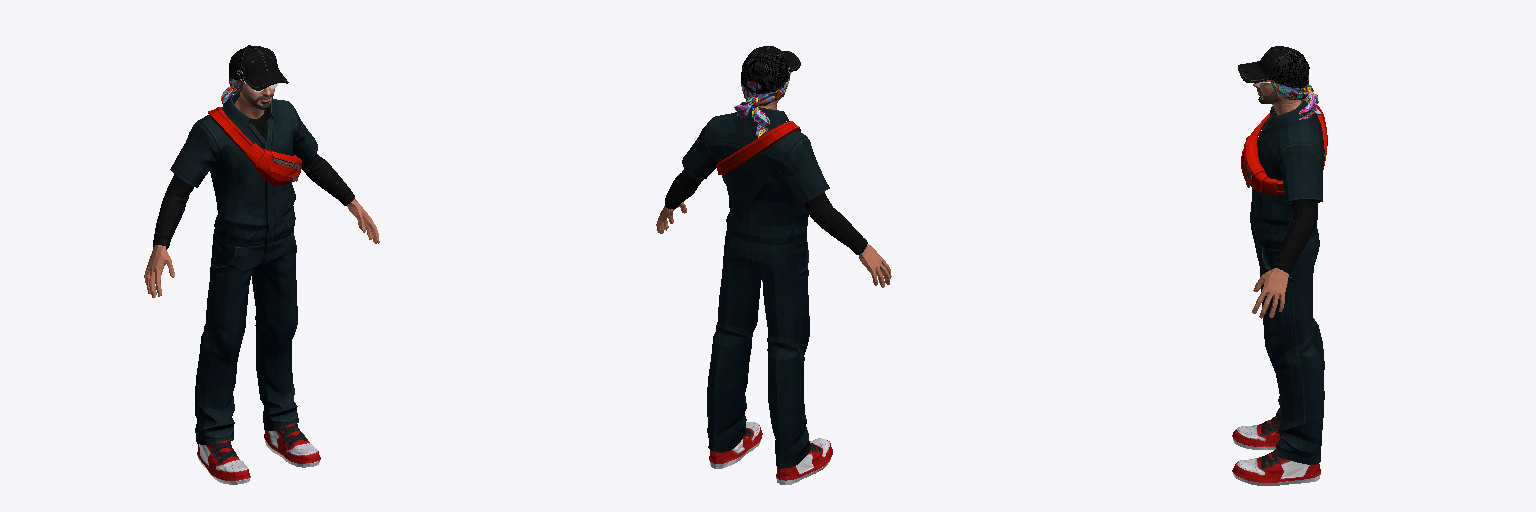
3 renders of one model, left to right at view 1: azimuth 30°, elevation 25°; view 2: azimuth 150°, elevation 25°; view 3: azimuth 270°, elevation 25°, orthographic.
Visible parts, largest first — view 1: Wolf3D_Outfit_Top, Wolf3D_Outfit_Bottom, Wolf3D_Outfit_Footwear, Wolf3D_Headwear, Wolf3D_Body, Wolf3D_Head; view 2: Wolf3D_Outfit_Bottom, Wolf3D_Outfit_Top, Wolf3D_Headwear, Wolf3D_Outfit_Footwear, Wolf3D_Body; view 3: Wolf3D_Outfit_Top, Wolf3D_Outfit_Bottom, Wolf3D_Outfit_Footwear, Wolf3D_Headwear, Wolf3D_Body, Wolf3D_Head.
Boxes of the visible parts, box(x1,y1,x2,y2) form: Wolf3D_Outfit_Top: box(153, 92, 354, 249); Wolf3D_Outfit_Bottom: box(195, 229, 298, 444); Wolf3D_Outfit_Footwear: box(197, 423, 320, 484); Wolf3D_Headwear: box(221, 45, 288, 105); Wolf3D_Body: box(144, 199, 379, 297); Wolf3D_Head: box(235, 83, 274, 118); Wolf3D_Outfit_Bottom: box(707, 230, 810, 468); Wolf3D_Outfit_Top: box(665, 102, 867, 254); Wolf3D_Headwear: box(734, 46, 800, 137); Wolf3D_Outfit_Footwear: box(709, 422, 832, 484); Wolf3D_Body: box(656, 202, 891, 287); Wolf3D_Outfit_Top: box(1241, 99, 1327, 273); Wolf3D_Outfit_Bottom: box(1253, 227, 1324, 464); Wolf3D_Outfit_Footwear: box(1232, 416, 1320, 485); Wolf3D_Headwear: box(1238, 46, 1321, 119); Wolf3D_Body: box(1252, 268, 1288, 318); Wolf3D_Head: box(1253, 80, 1301, 114).
Bounding box in the file's own units: 1.06 × 1.85 × 0.3862.
9 materials, 6 textured.